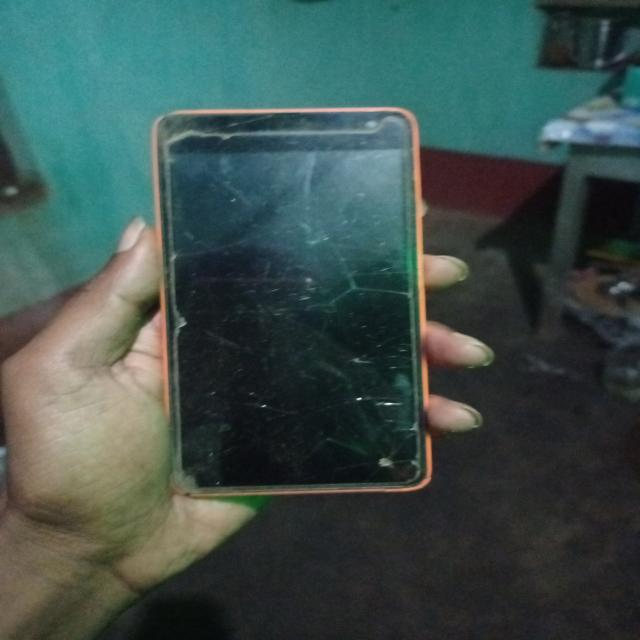screen crack: (239, 185, 420, 351), (340, 425, 435, 498), (146, 451, 225, 513), (340, 389, 436, 415)
